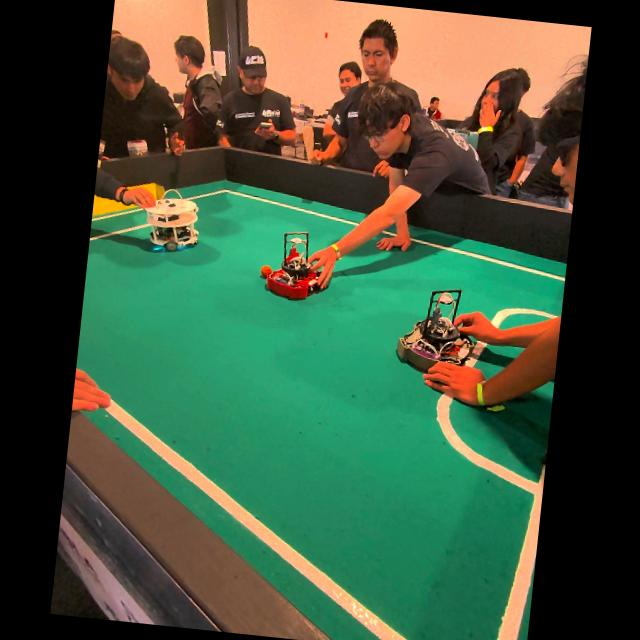ball: (259, 265, 270, 277)
robot: (395, 289, 473, 370), (264, 232, 320, 298), (144, 189, 197, 251)
